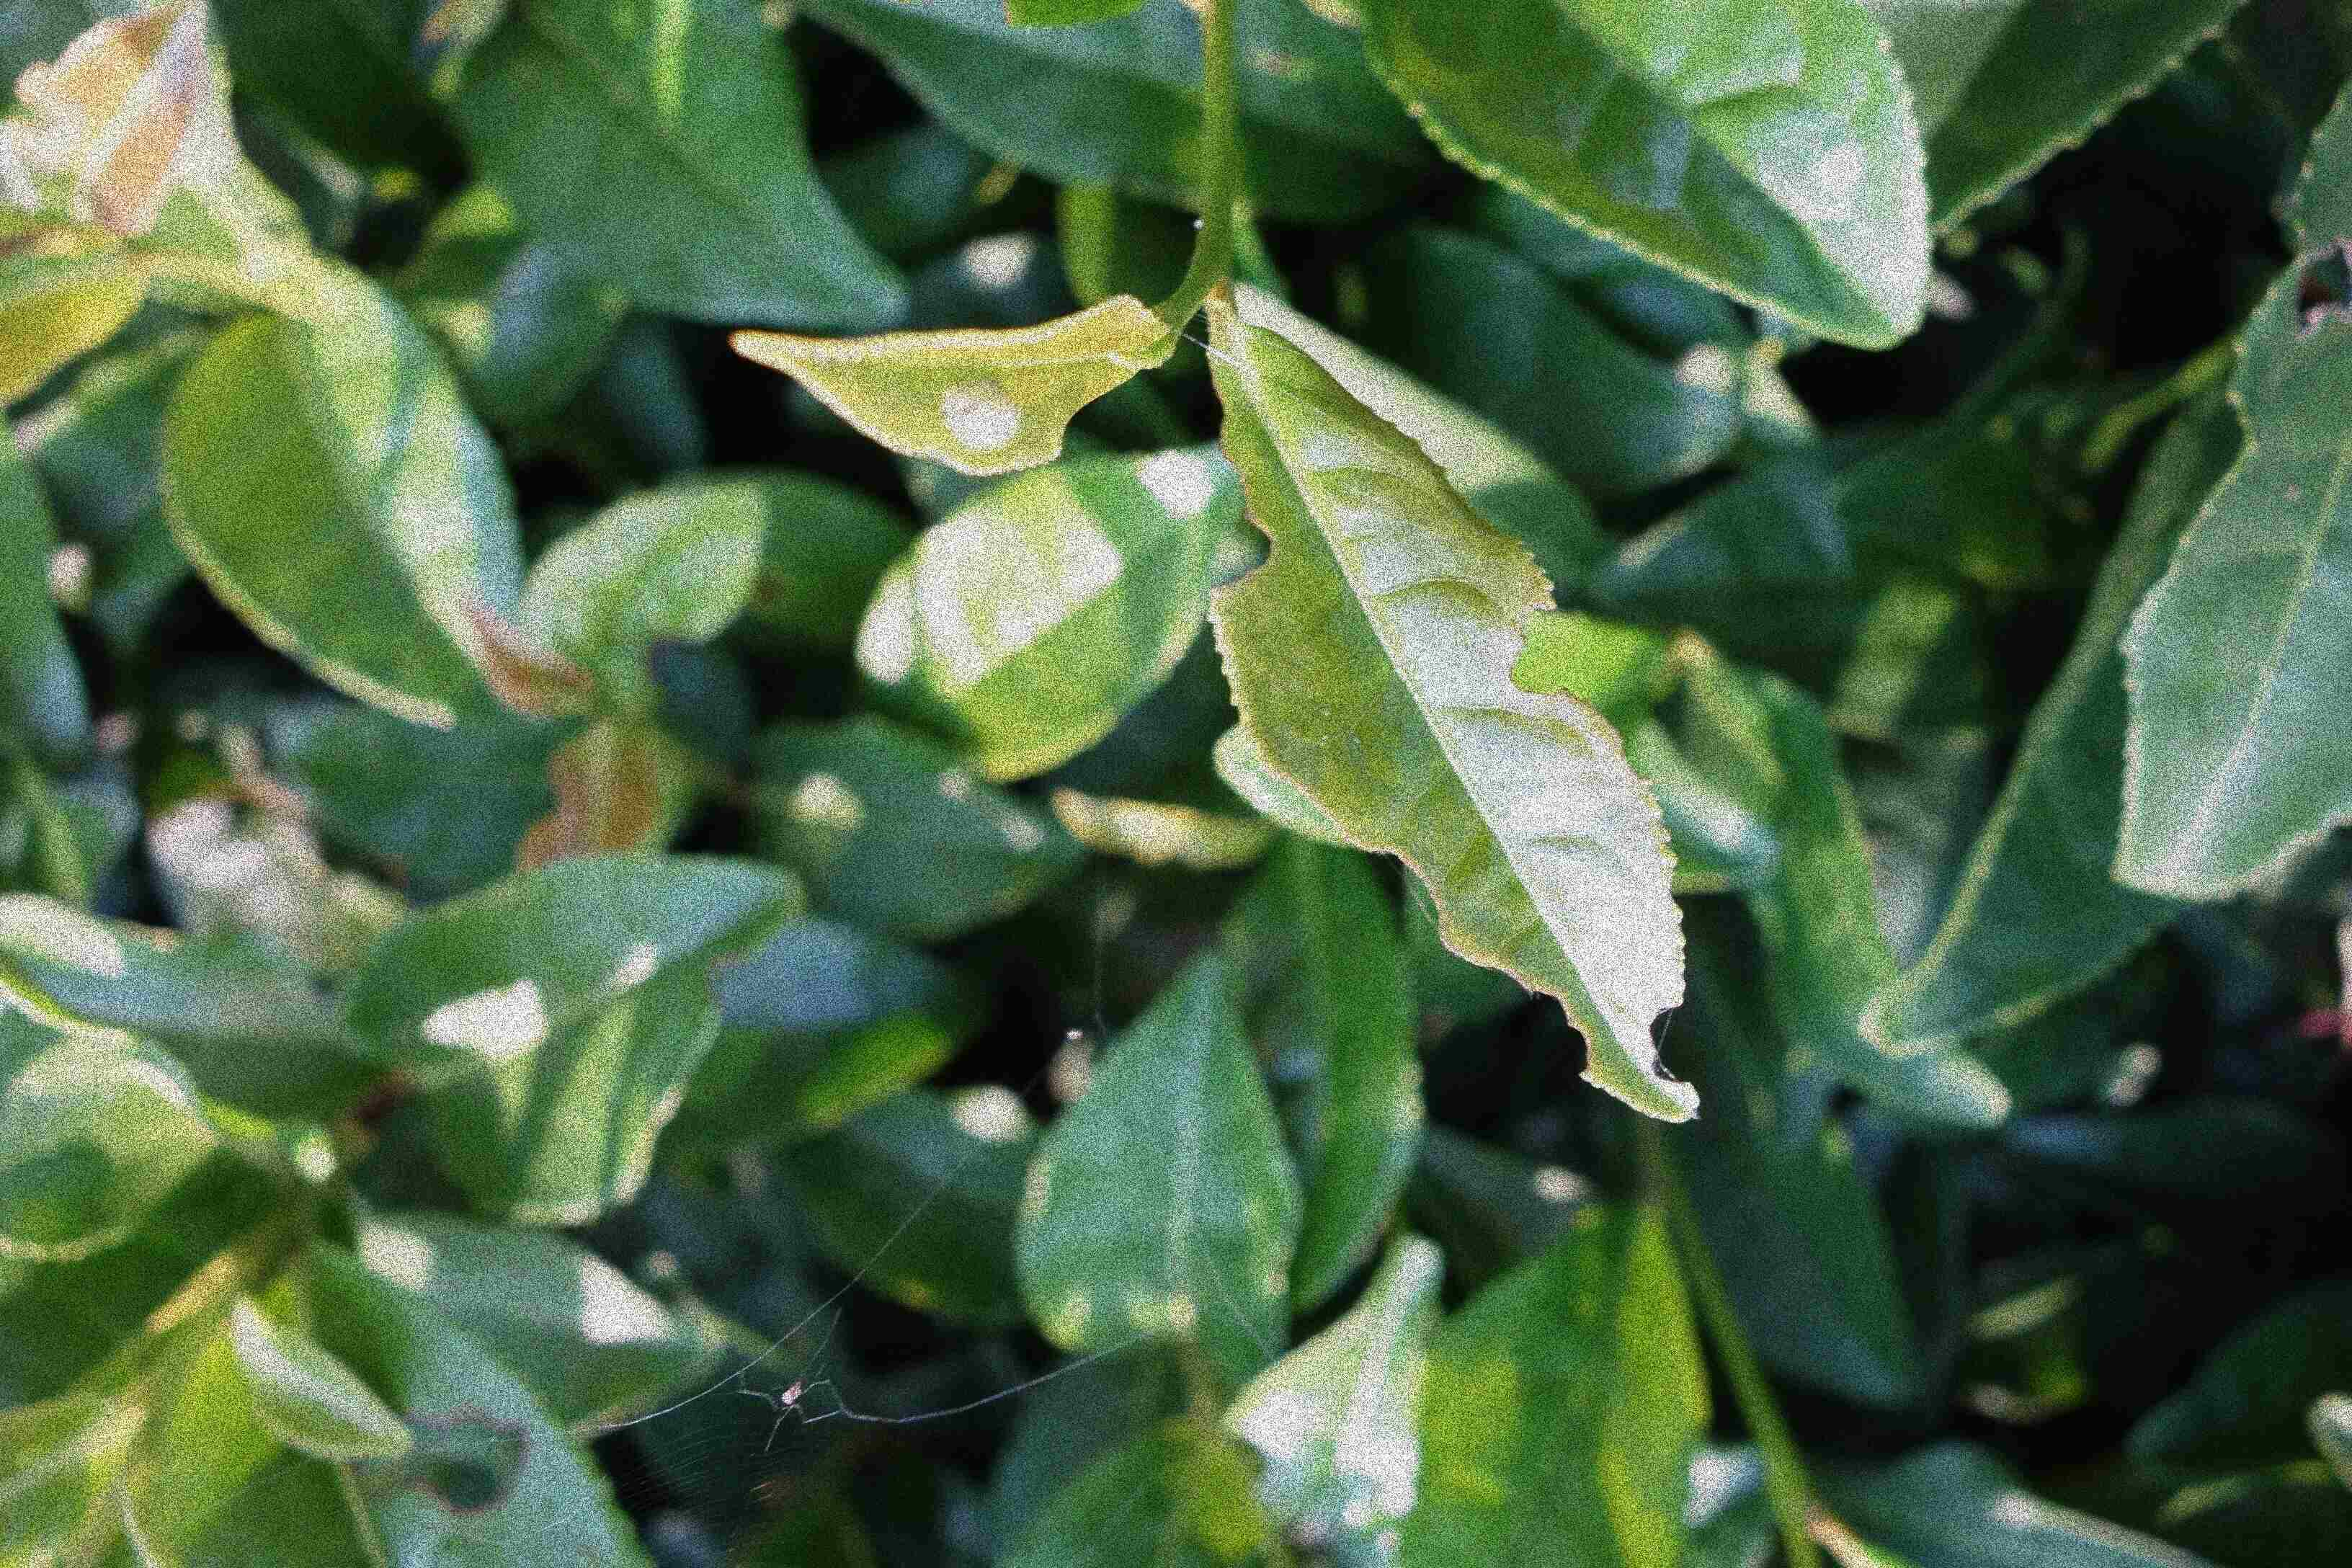chabing_low: (728, 294, 1172, 478)
chihuo_high: (1204, 296, 1703, 1129)
